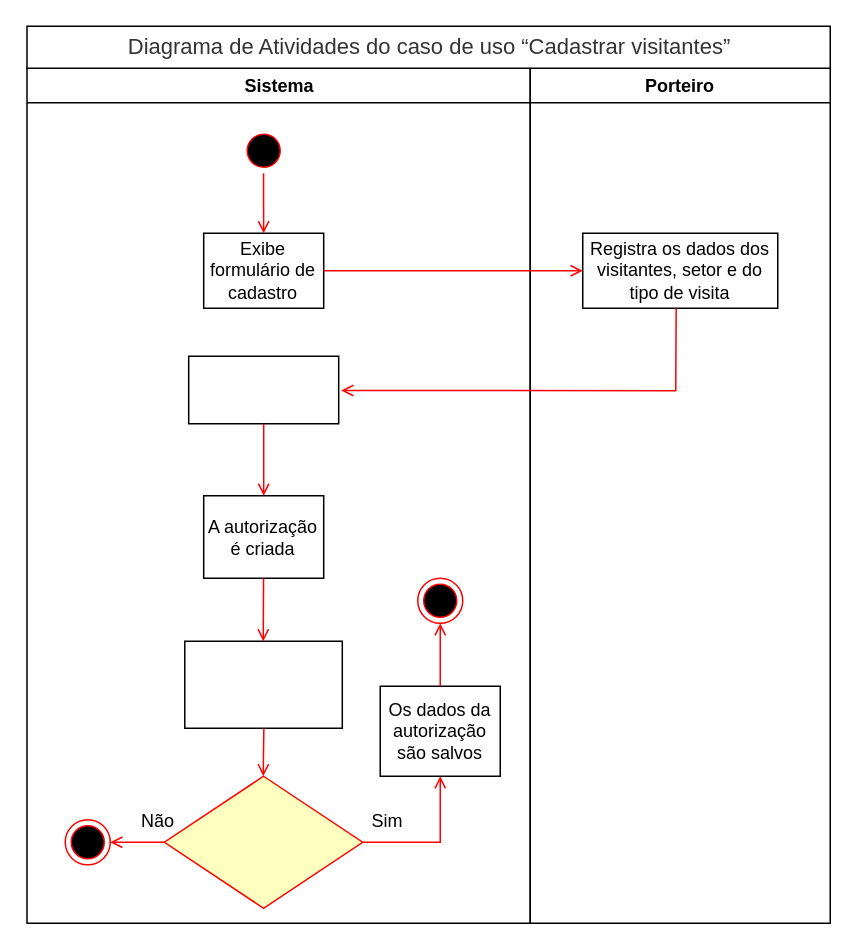
The diagram is 857 pixels wide and 950 high, and some of its shapes have lost their labels. Each missing label, with the centre of its shape:
"A autorização é confirmada" belongs at (263,841).
"A autorização é enviada para confirmação" belongs at (262,684).
"Dados do setor são recuperados" belongs at (263,389).
